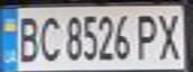2: (97, 11, 118, 62)
5: (78, 11, 100, 62)
6: (112, 11, 136, 62)
8: (60, 11, 84, 62)
B: (12, 11, 42, 63)
C: (36, 11, 63, 63)
P: (133, 10, 163, 61)
X: (154, 8, 187, 61)
